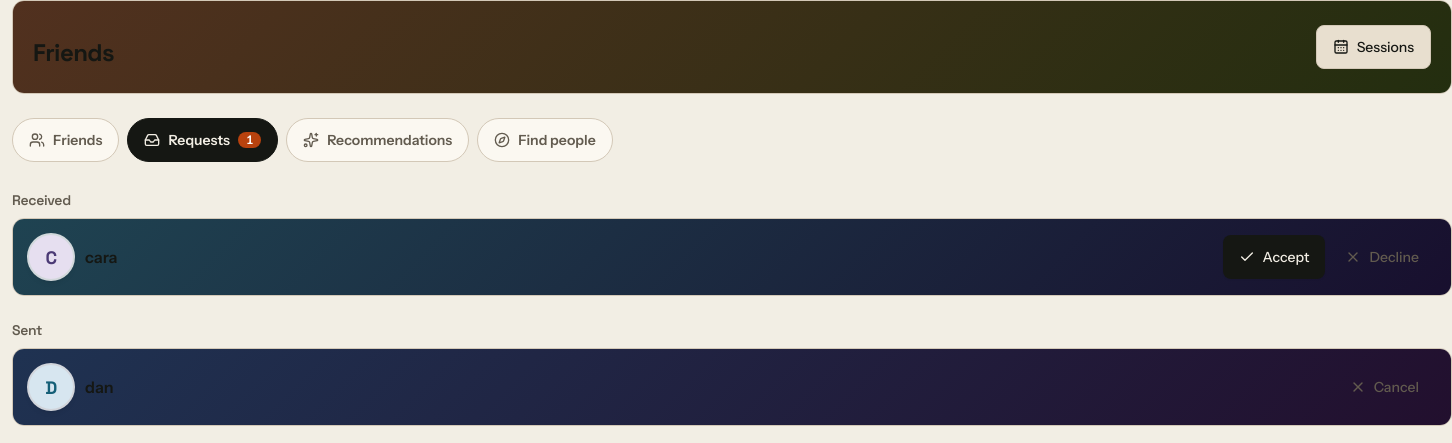
Test: Friends page — requests tab › accepts optimistically
The width and height of the screenshot is (1452, 443).
Step 1. Click the button with aria-label "Accept cara" → [1274, 257], box [1223, 235, 1326, 279]
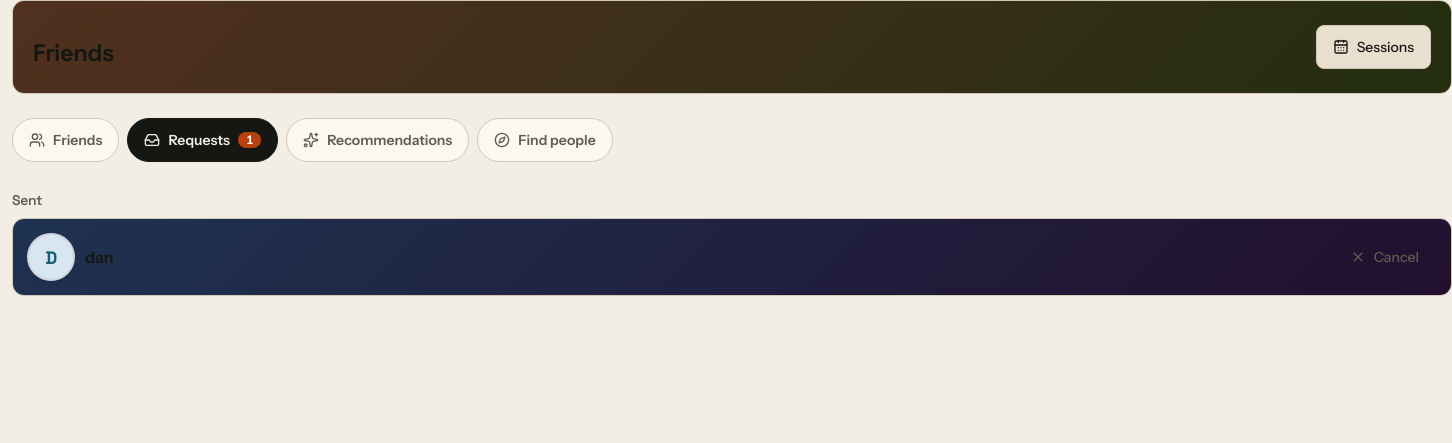
Expected: the link "cara" is gone
